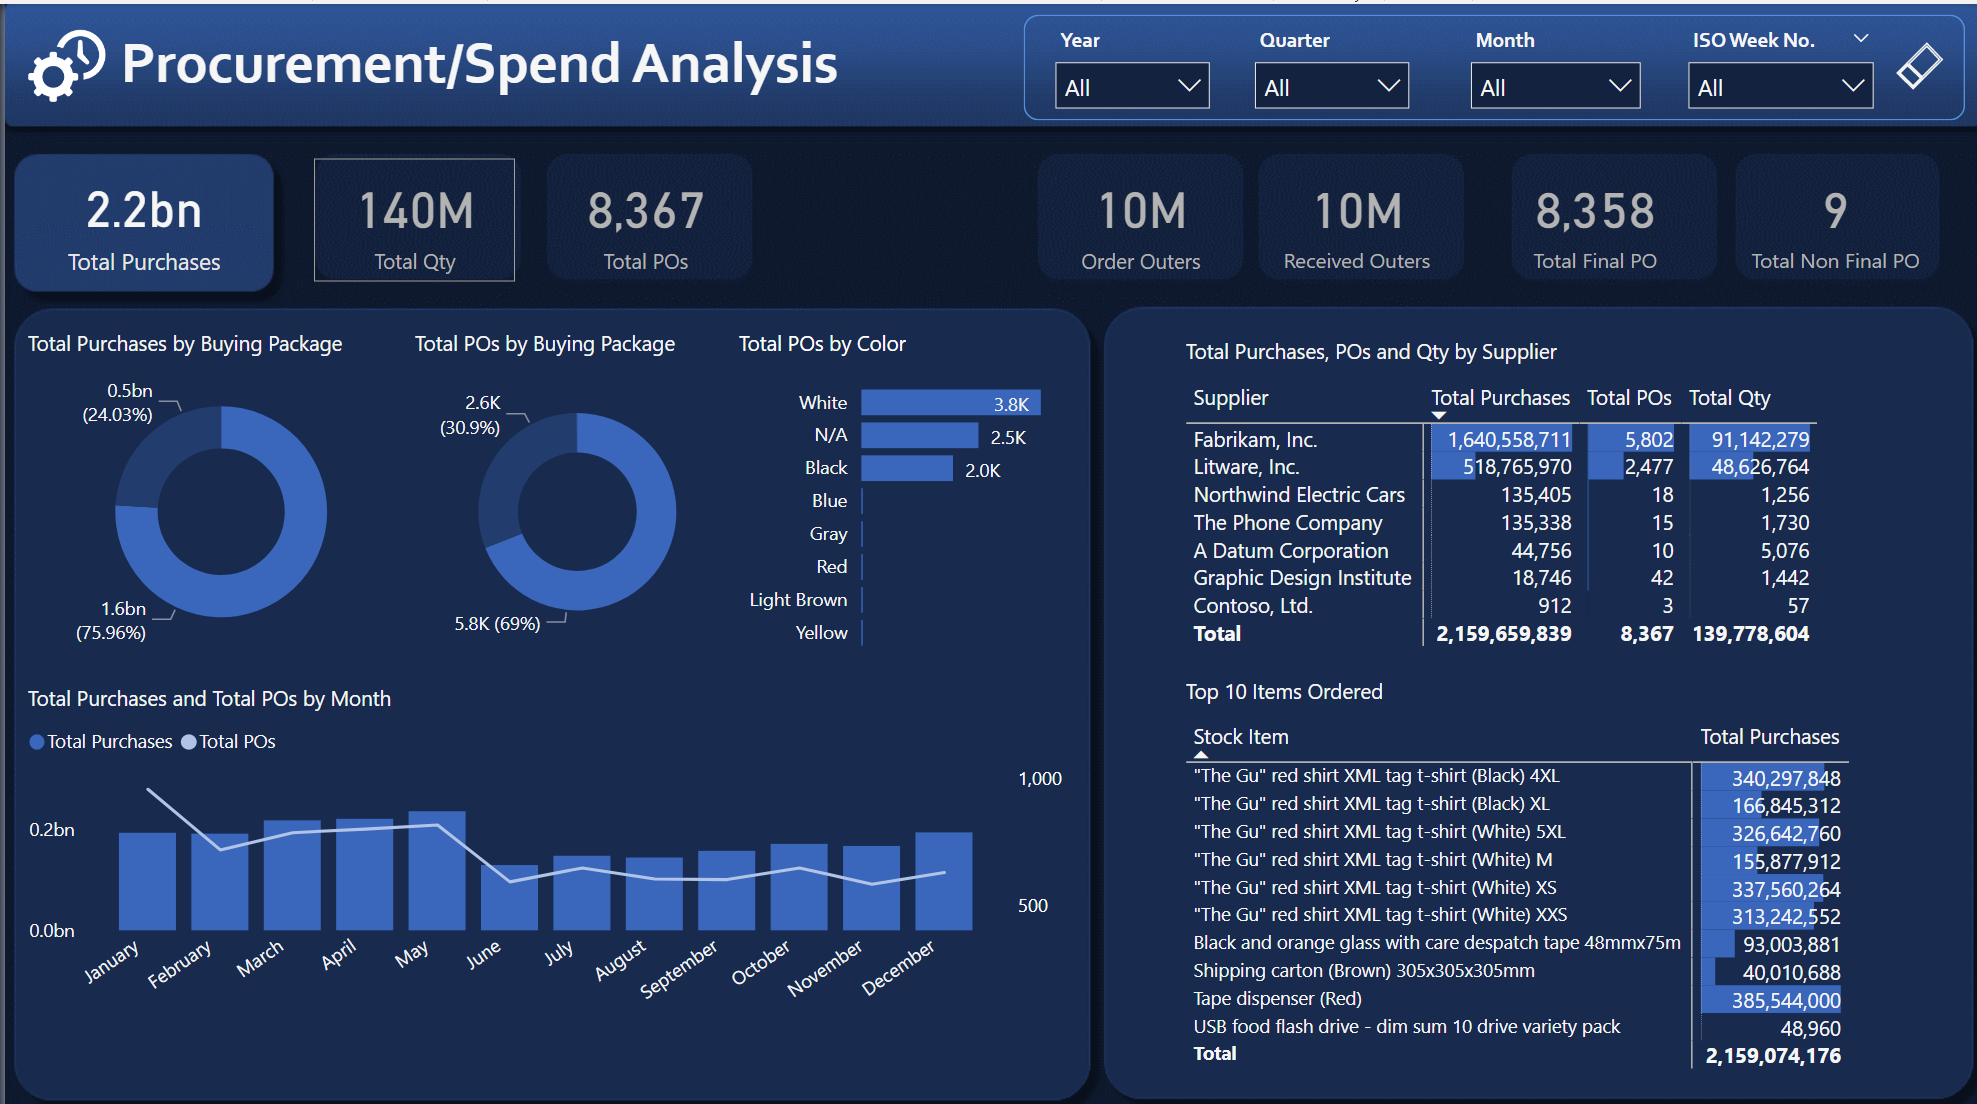

This screenshot's page, from the dashboard's own definition file:
{"tool":"powerbi","page":{"name":"Spend Report V1","canvas":[1280,720],"ordinal":0},"visuals":[{"type":"shape","title":"Header Area","box":[24.2,8.3,1231.7,79.7],"z":0},{"type":"shape","title":"Right Hand Area","box":[783.7,207.7,472.1,504],"z":1000},{"type":"shape","title":"Left Hand Area","box":[24.2,207.7,735.9,504],"z":2000},{"type":"textbox","title":"Report Header Text Box","box":[88,16,568,56],"z":3000},{"type":"card","title":"Total Purcxhases","fields":{"Values":["_All Measures.Total Purchases"]},"box":[31.9,103.9,149.9,80.3],"z":4000},{"type":"card","title":"Total Qty","fields":{"Values":["_All Measures.Total Qty"]},"box":[198.9,103.9,135.7,80.3],"z":5000},{"type":"card","title":"Total POs","fields":{"Values":["_All Measures.Total POs"]},"box":[341.7,103.9,136.3,80.3],"z":6000},{"type":"card","title":"Order Outers","fields":{"Values":["_All Measures.Order Outers"]},"box":[605.5,103.9,136.3,80.3],"z":7000},{"type":"card","title":"Received Outers","fields":{"Values":["_All Measures.Received Outers"]},"box":[748.3,103.9,135.7,80.3],"z":8000},{"type":"card","title":"Ttoal Final PO","fields":{"Values":["_All Measures.Total Final PO"]},"box":[969.6,103.9,136.3,80.3],"z":9000},{"type":"card","title":"Total Non Final PO","fields":{"Values":["_All Measures.Total Non Final PO"]},"box":[1112,104,136,80],"z":10000},{"type":"donutChart","fields":{"Y":["_All Measures.Total Purchases"],"Category":["Dimension Stock Item.Buying Package"]},"box":[64,216,224,240],"z":11000},{"type":"donutChart","fields":{"Category":["Dimension Stock Item.Buying Package"],"Y":["_All Measures.Total POs"]},"box":[296,216,224,240],"z":12000},{"type":"barChart","fields":{"Category":["Dimension Stock Item.Color"],"Y":["_All Measures.Total POs"]},"box":[528,216,224,240],"z":13000},{"type":"lineStackedColumnComboChart","fields":{"Y":["_All Measures.Total Purchases"],"Y2":["_All Measures.Total POs"],"Category":["Dimension Date.Date Hierarchy.Month"]},"box":[64,472,688,224],"z":14000},{"type":"pivotTable","title":"Supplier, Purchases POs Qty","fields":{"Rows":["Dimension Supplier.Supplier"],"Values":["_All Measures.Total Purchases","_All Measures.Total POs","_All Measures.Total Qty"]},"box":[800.3,224.3,447.3,231.9],"z":15000},{"type":"pivotTable","title":"Top 10 Stock Items","fields":{"Rows":["Dimension Stock Item.Stock Item"],"Values":["_All Measures.Total Purchases"]},"box":[795.5,456.2,447.9,247.9],"z":16000},{"type":"textbox","title":"Top 10 Items Ordered Text Box","box":[903,456.2,144,31.9],"z":17000},{"type":"slicer","title":"Year Slicer","fields":{"Values":["Dimension Date.Date.Variation.Date Hierarchy.Year"]},"box":[672.2,15.9,128.1,64.3],"z":19000},{"type":"slicer","title":"Quarter Sclicer","fields":{"Values":["Dimension Date.Date.Variation.Date Hierarchy.Quarter"]},"box":[816,16,128,64],"z":20000},{"type":"slicer","title":"Month Slicer","fields":{"Values":["Dimension Date.Date.Variation.Date Hierarchy.Month"]},"box":[960,16,136,64],"z":21000},{"type":"slicer","title":"ISO Week No","fields":{"Values":["Dimension Date.ISO Week Number"]},"box":[1112,16,136,64],"z":22000},{"type":"image","box":[31.9,11.8,56.1,64.3],"z":23000}]}

Visuals, with their boxes in screenshot pixels (x1, y1, x2, y2), scaled from the page's 1280x720 canvas onto the 1977x1104 screenshot:
"Header Area" shape: [37,13,1940,135]
"Right Hand Area" shape: [1210,318,1940,1091]
"Left Hand Area" shape: [37,318,1174,1091]
"Report Header Text Box" textbox: [136,25,1013,110]
"Total Purcxhases" card: [49,159,281,282]
"Total Qty" card: [307,159,517,282]
"Total POs" card: [528,159,738,282]
"Order Outers" card: [935,159,1146,282]
"Received Outers" card: [1156,159,1365,282]
"Ttoal Final PO" card: [1498,159,1708,282]
"Total Non Final PO" card: [1718,159,1928,282]
donutChart - _All Measures.Total Purchases x Dimension Stock Item.Buying Package: [99,331,445,699]
donutChart - Dimension Stock Item.Buying Package x _All Measures.Total POs: [457,331,803,699]
barChart - Dimension Stock Item.Color x _All Measures.Total POs: [816,331,1161,699]
lineStackedColumnComboChart - _All Measures.Total Purchases x _All Measures.Total POs: [99,724,1161,1067]
"Supplier, Purchases POs Qty" pivotTable: [1236,344,1927,700]
"Top 10 Stock Items" pivotTable: [1229,700,1920,1080]
"Top 10 Items Ordered Text Box" textbox: [1395,700,1617,748]
"Year Slicer" slicer: [1038,24,1236,123]
"Quarter Sclicer" slicer: [1260,25,1458,123]
"Month Slicer" slicer: [1483,25,1693,123]
"ISO Week No" slicer: [1718,25,1928,123]
image: [49,18,136,117]
